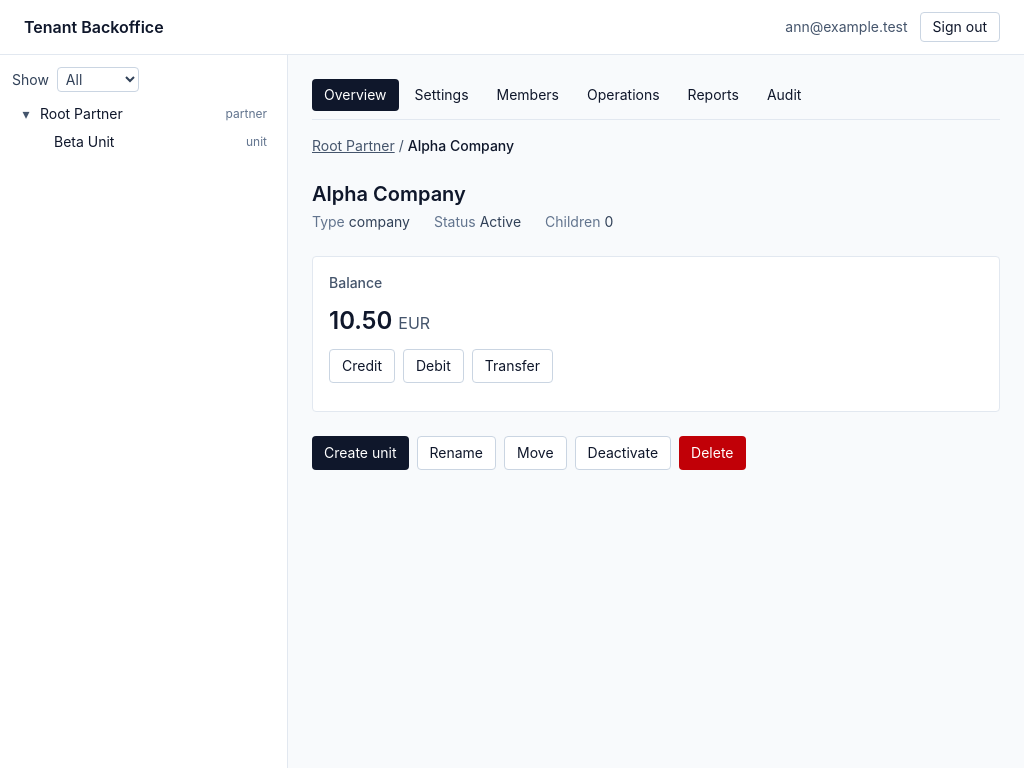
Test: node card › [T-W-01] a 403 on rename shows an Alert, keeps the data and reads the permissions again
Click the button "Rename" at [456, 453], box [416,436,496,470]
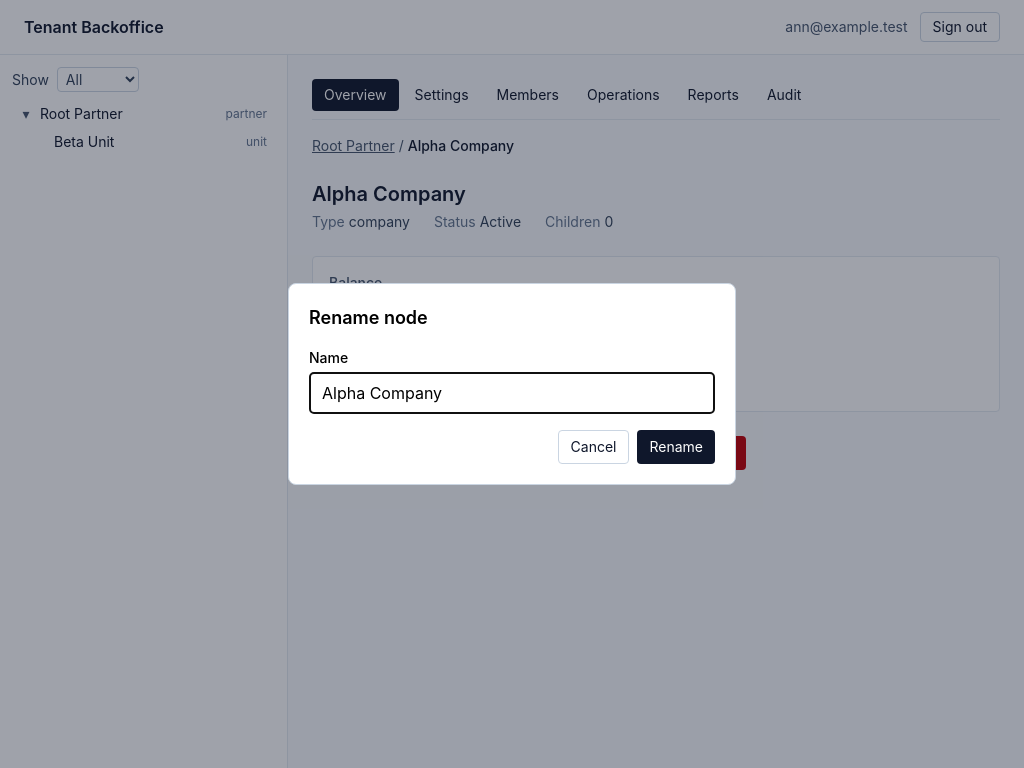
Replace the text in the field labelled "Name" with "Gamma" at [512, 393], box [309,372,715,414]
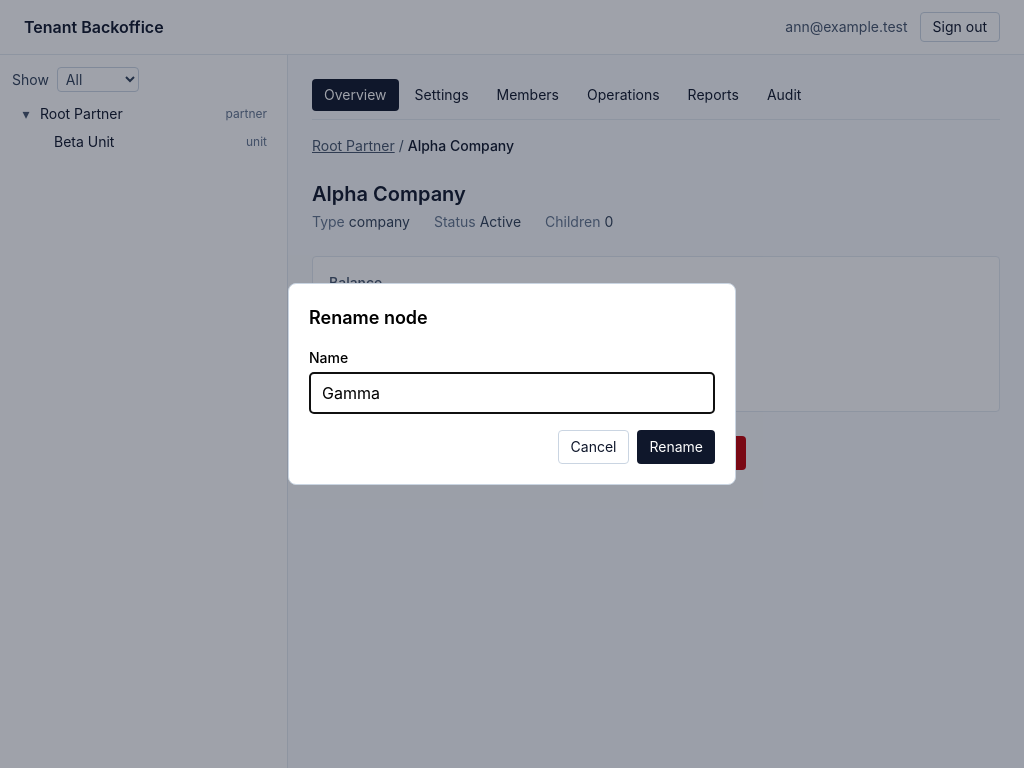
Click the submit button at [676, 447], box [638,430,715,464]
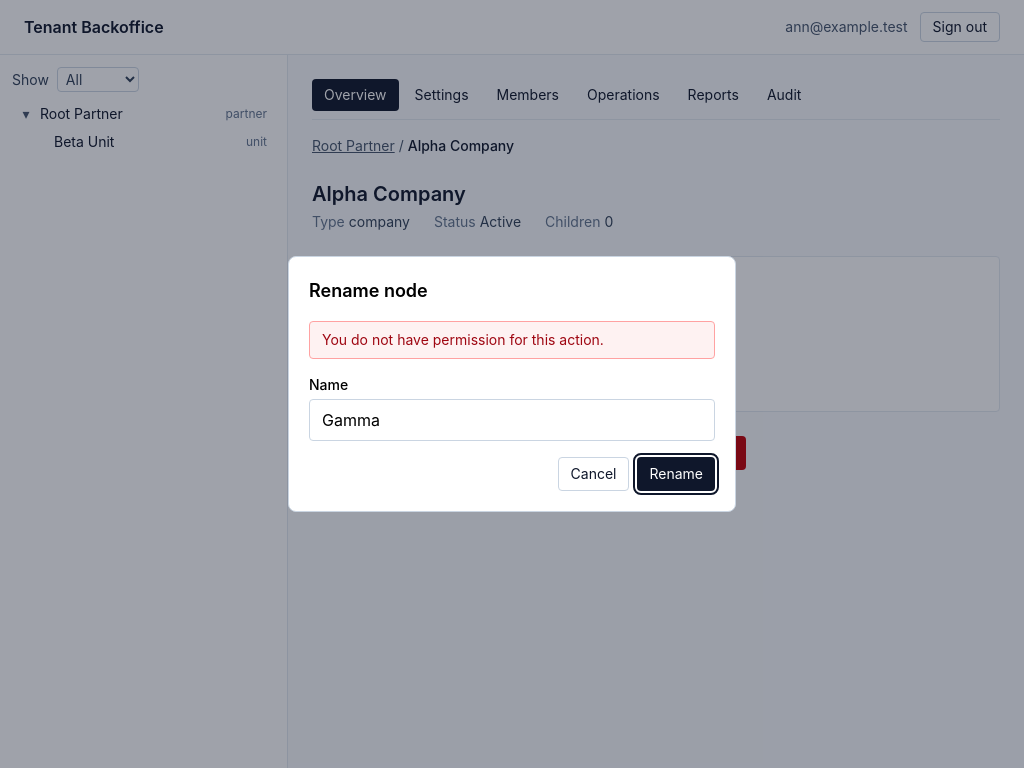
Check: the heading "Alpha Company" is shown, box [312,182,466,206]
Check: the message shows "You do not have permission for this action", box [322,331,604,348]
